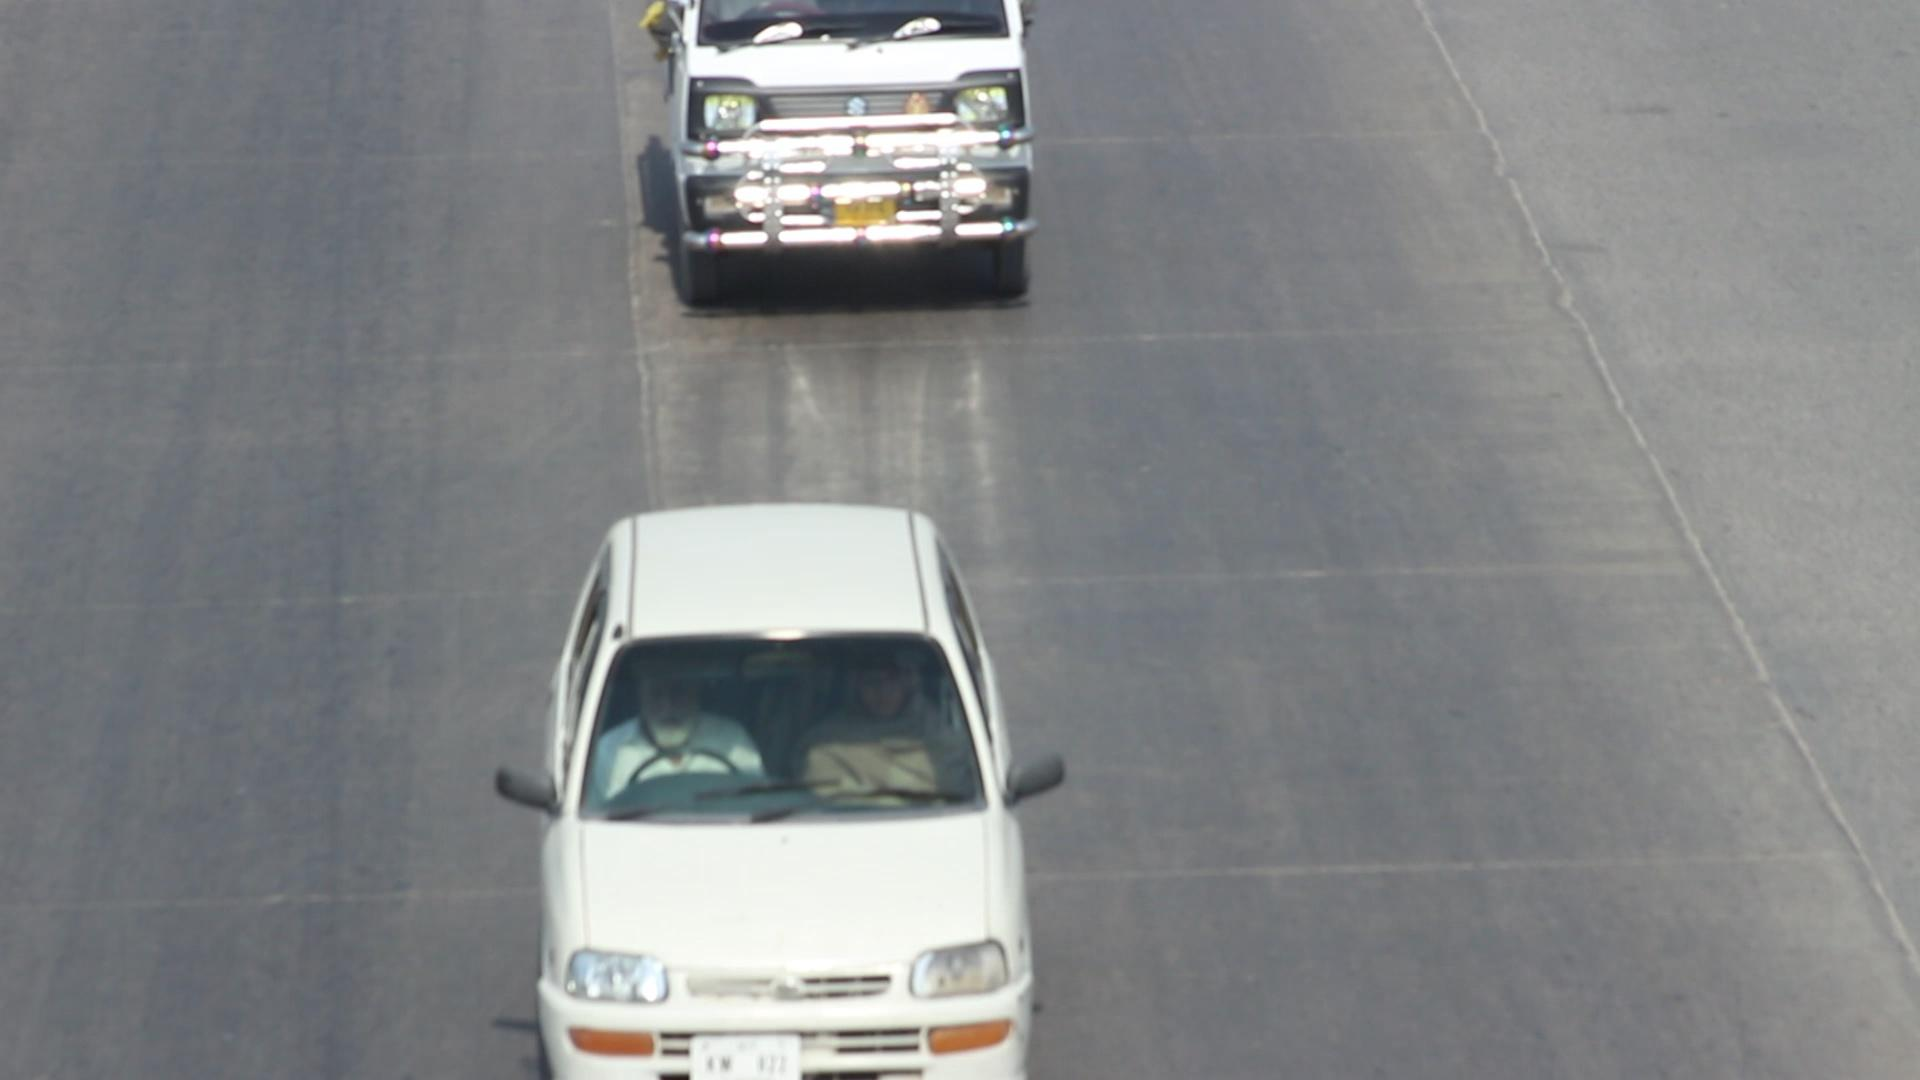windshield: (564, 596, 994, 827)
